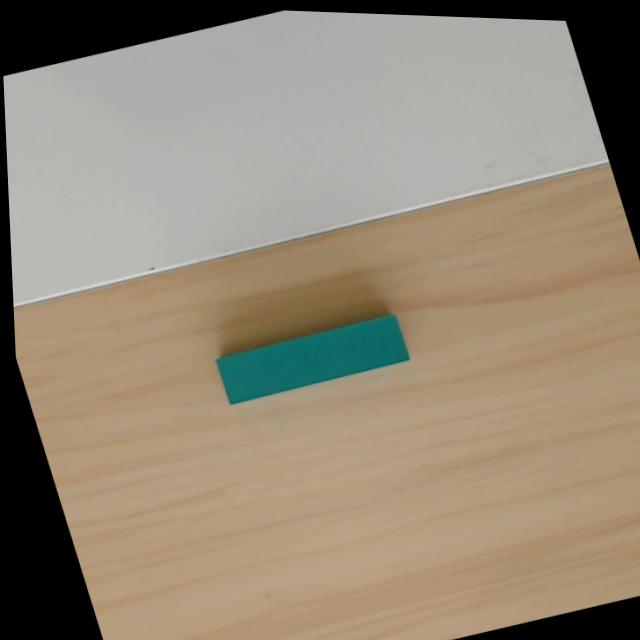Balok-Hijau-1002525: (214, 311, 408, 404)
